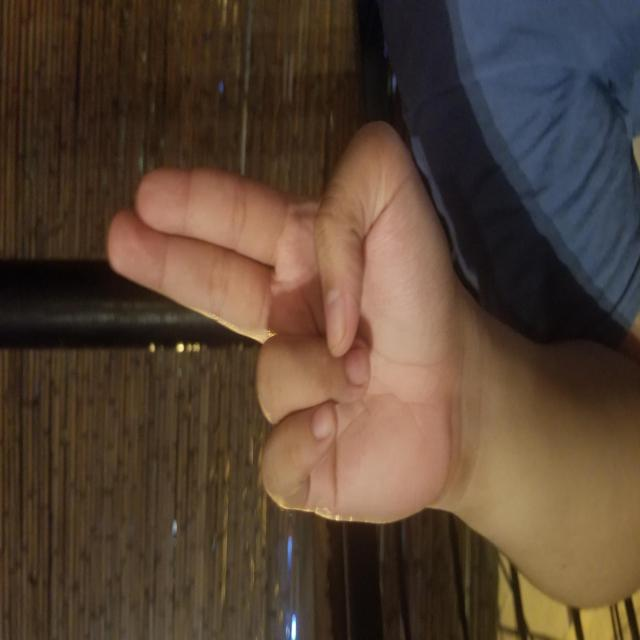U: (115, 108, 522, 446)
